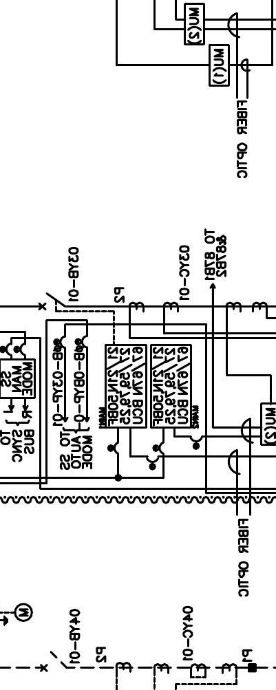115_breaker: (38, 292, 66, 311)
MU: (183, 2, 206, 46), (208, 44, 230, 87)
